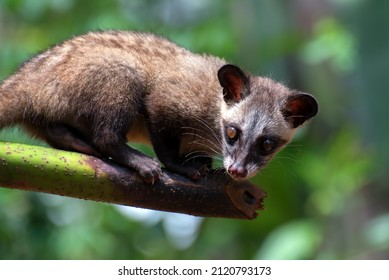Civet: (1, 25, 322, 189)
